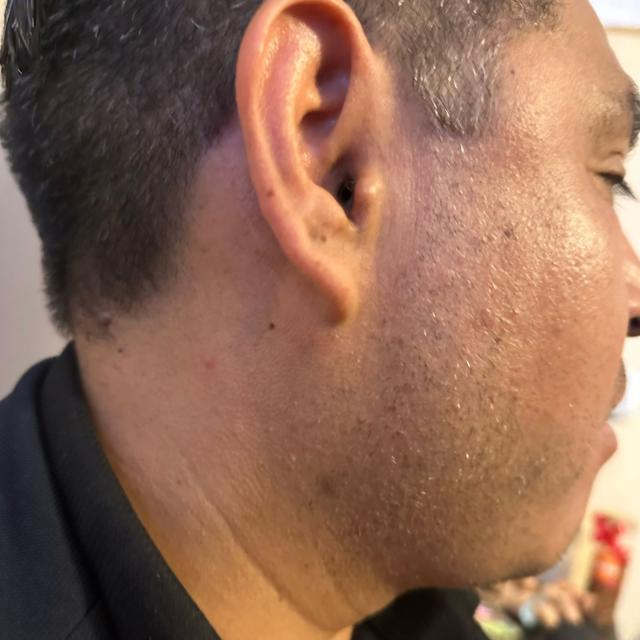ear: (236, 0, 396, 324)
